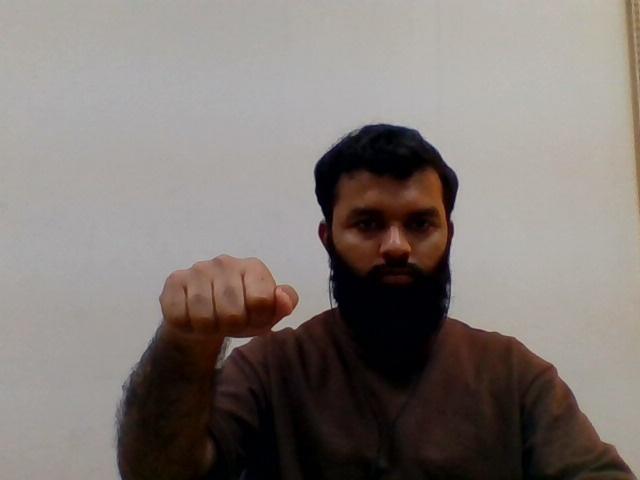Yes: (147, 242, 309, 363)
